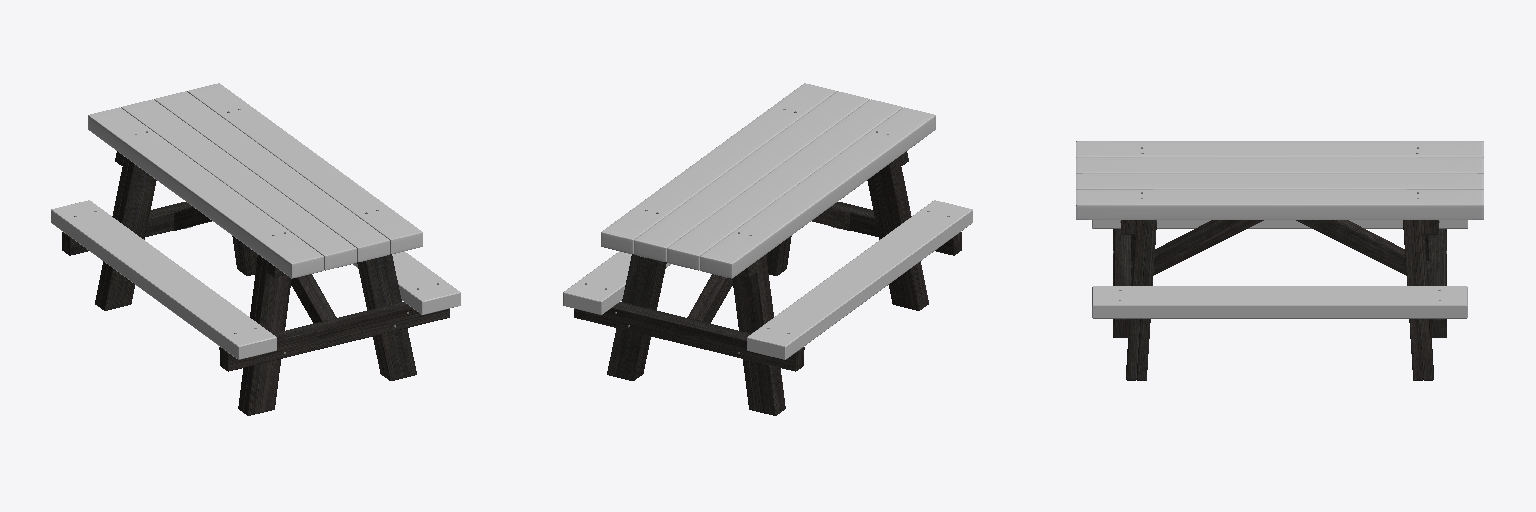
3 renders of one model, left to right at view 1: azimuth 30°, elevation 25°; view 2: azimuth 150°, elevation 25°; view 3: azimuth 270°, elevation 25°, orthographic.
Visible parts, largest first — view 1: Table, Table.002, Table.001, Table.003; view 2: Table, Table.002, Table.001, Table.003; view 3: Table, Table.001, Table.002, Table.003.
Part boxes in pixels (left/top/right/bottom): Table: left=88, top=83, right=422, bottom=278; Table.002: left=62, top=157, right=449, bottom=415; Table.001: left=51, top=200, right=460, bottom=359; Table.003: left=174, top=207, right=336, bottom=323; Table: left=601, top=83, right=935, bottom=278; Table.002: left=574, top=157, right=961, bottom=415; Table.001: left=563, top=200, right=972, bottom=359; Table.003: left=687, top=207, right=849, bottom=323; Table: left=1076, top=141, right=1483, bottom=219; Table.001: left=1092, top=220, right=1467, bottom=318; Table.002: left=1113, top=220, right=1446, bottom=380; Table.003: left=1131, top=220, right=1428, bottom=285.
Bounding box in the file's own units: 1.31 × 0.9418 × 2.08.
Materials: 3 (1 with a texture image).